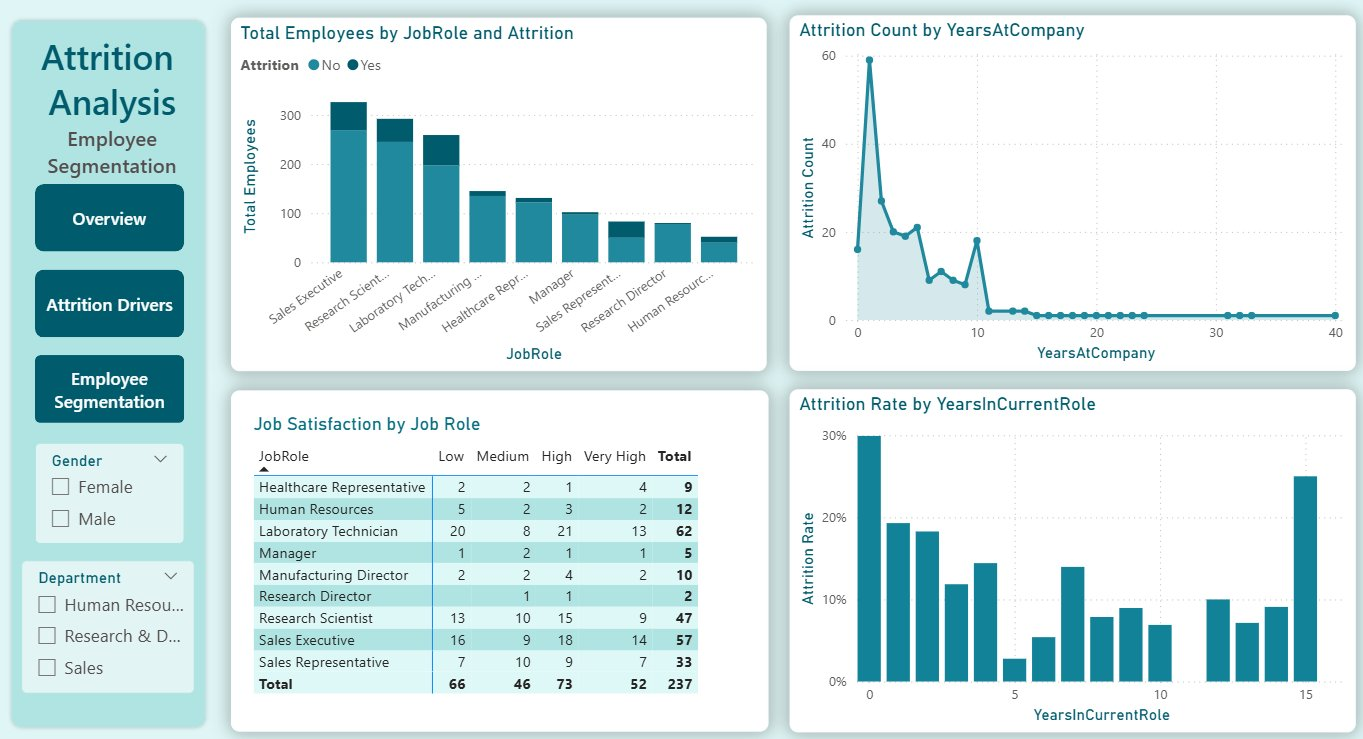

The page's visual inventory and layout, read from the dashboard file:
{"tool":"powerbi","page":{"name":"Employee Segmentation","canvas":[1280,720],"ordinal":2},"visuals":[{"type":"shape","box":[19,34,186,658],"z":0},{"type":"columnChart","fields":{"Category":["HR Analytics Data.JobRole"],"Y":["All measures.Total Employees"],"Series":["HR Analytics Data.Attrition"]},"box":[224.3,34.3,492.9,325.7],"z":1000},{"type":"lineChart","fields":{"Category":["HR Analytics Data.YearsAtCompany"],"Y":["All measures.Attrition Count"]},"box":[738.6,32.5,521.4,327.3],"z":2000},{"type":"pivotTable","title":"Job Satisfaction by Job Role","fields":{"Rows":["HR Analytics Data.JobRole"],"Values":["All measures.Attrition Count"],"Columns":["HR Analytics Data.Job Satisfaction Recoded"]},"box":[224.5,377.9,494.5,314.1],"z":3000},{"type":"clusteredColumnChart","fields":{"Category":["HR Analytics Data.YearsInCurrentRole"],"Y":["All measures.Attrition Rate %"]},"box":[738.6,377.1,521.4,315.7],"z":4000},{"type":"textbox","box":[22.5,42.5,186.2,145],"z":5000},{"type":"actionButton","box":[44.2,187.7,137.4,62],"z":6000},{"type":"actionButton","box":[44.2,266.3,137.4,62.6],"z":7000},{"type":"actionButton","box":[44.2,344.8,137.4,62.6],"z":8000},{"type":"slicer","fields":{"Values":["HR Analytics Data.Gender"]},"box":[44.2,425.8,137.4,93.3],"z":9000},{"type":"slicer","fields":{"Values":["HR Analytics Data.Department"]},"box":[31.9,533.7,159.5,122.7],"z":10000}]}

Visuals, with their boxes on the page's 1280x720 design canvas (x1, y1, x2, y2). These are canvas units, not pixel positions in the 1363x739 screenshot, which may show the page scaled, cropped or inside an application window:
shape: box(19, 34, 205, 692)
columnChart - HR Analytics Data.JobRole x All measures.Total Employees: box(224, 34, 717, 360)
lineChart - HR Analytics Data.YearsAtCompany x All measures.Attrition Count: box(739, 32, 1260, 360)
"Job Satisfaction by Job Role" pivotTable: box(224, 378, 719, 692)
clusteredColumnChart - HR Analytics Data.YearsInCurrentRole x All measures.Attrition Rate %: box(739, 377, 1260, 693)
textbox: box(22, 42, 209, 188)
actionButton: box(44, 188, 182, 250)
actionButton: box(44, 266, 182, 329)
actionButton: box(44, 345, 182, 407)
slicer - HR Analytics Data.Gender: box(44, 426, 182, 519)
slicer - HR Analytics Data.Department: box(32, 534, 191, 656)
